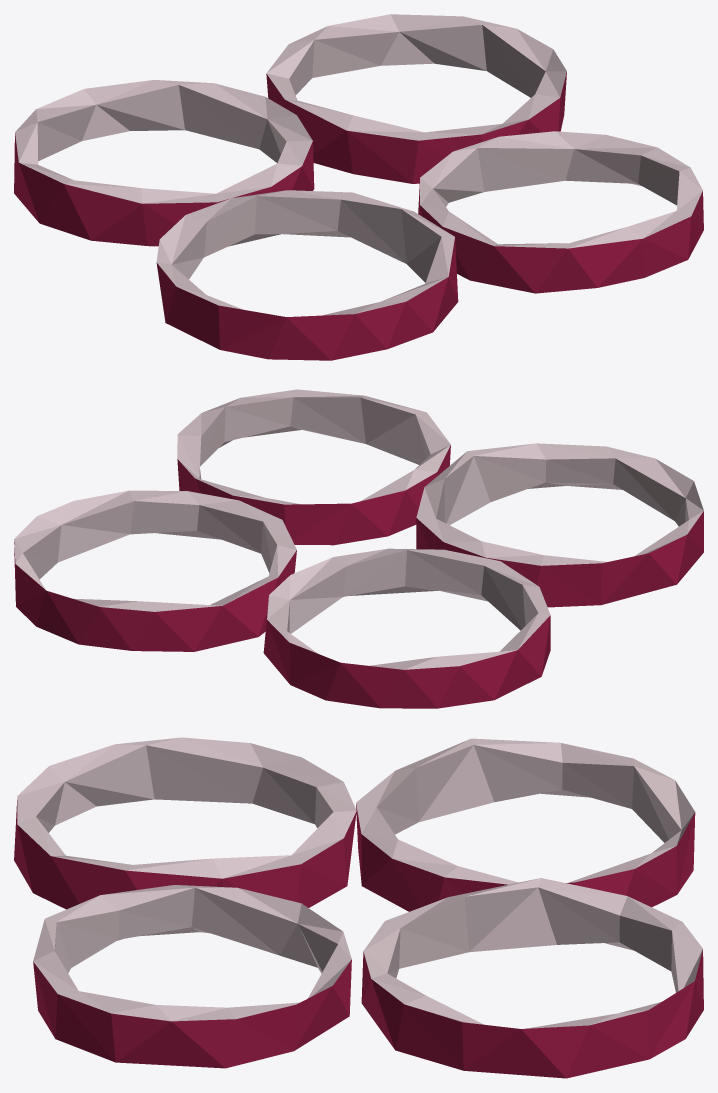
Rendered from onions.fbx.
3 renders of one model, top to bottom at view 1: azimuth 30°, elevation 25°; view 2: azimuth 150°, elevation 25°; view 3: azimuth 270°, elevation 25°, orthographic. The views are drawn at different scales.
Parts seen in each view (by area): view 1: Onion 1.002; view 2: Onion 1.002; view 3: Onion 1.002.
Boxes of the visible parts, x1=… form: Onion 1.002: x1=14, y1=14, x2=703, y2=360; Onion 1.002: x1=14, y1=389, x2=703, y2=708; Onion 1.002: x1=14, y1=737, x2=703, y2=1078.
Bounding box in the file's own units: 102 × 10.51 × 102.
